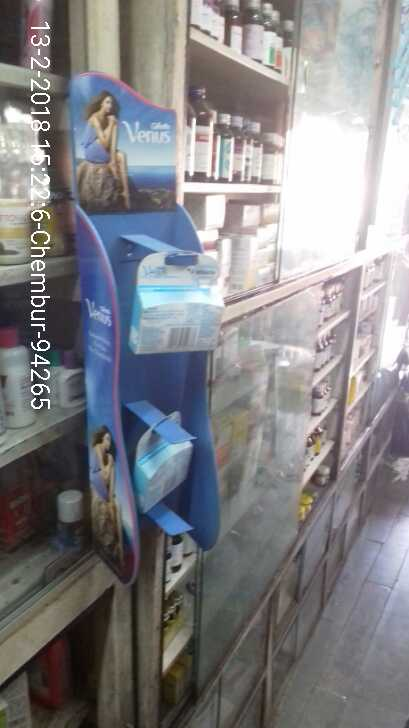reject: (146, 307, 288, 460)
